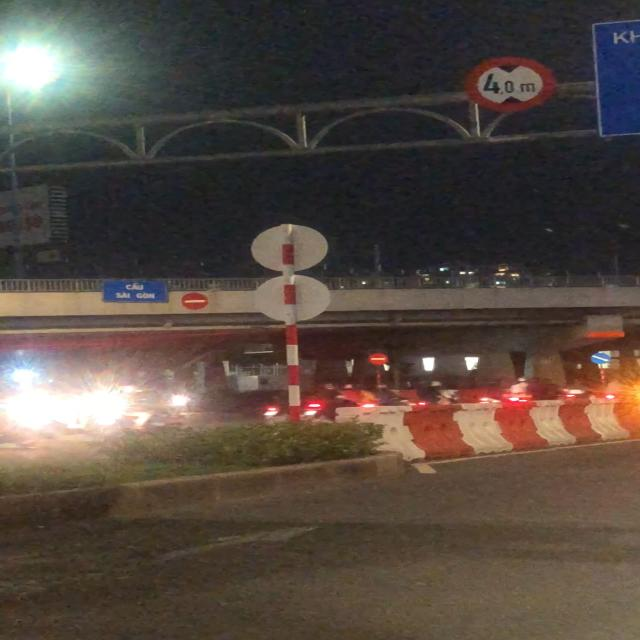Bien bao cam di nguoc chieu: (178, 291, 216, 311), (367, 352, 390, 366)
Bien bao han che chieu cao: (460, 56, 557, 116)
Bien bao huong phai di vong chuong ngai vat: (588, 351, 612, 365)
